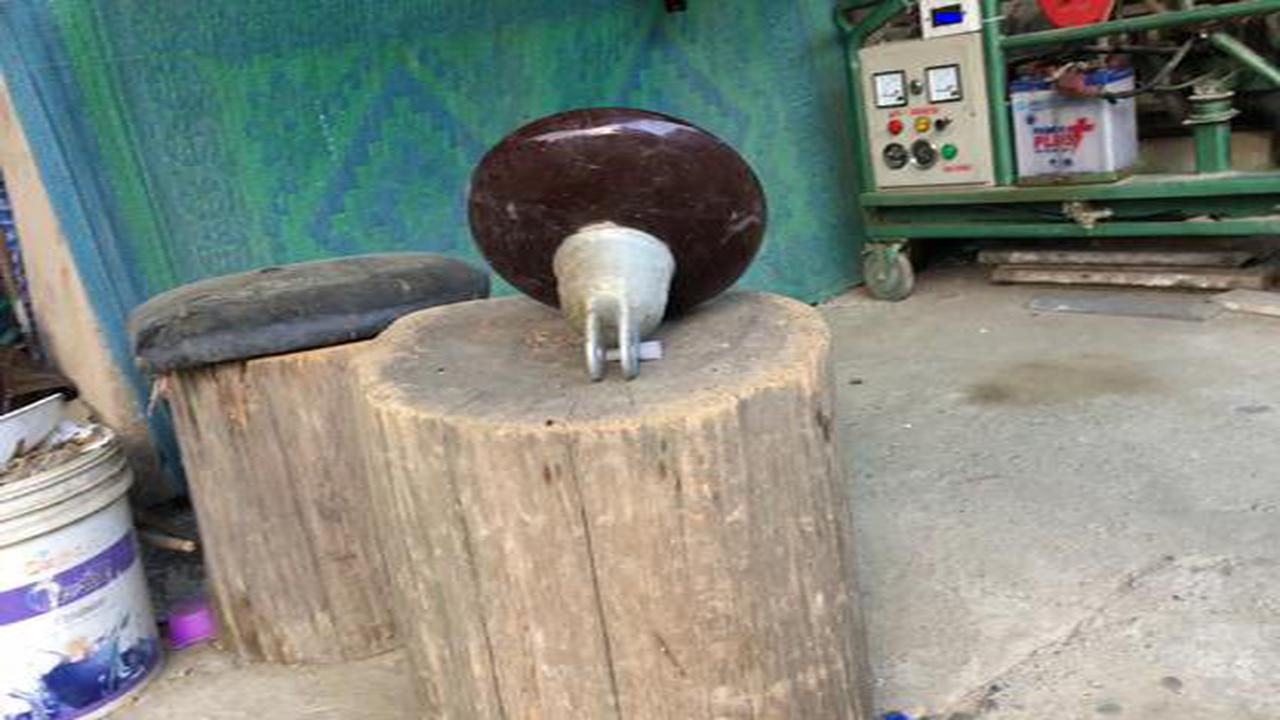insulator_disc: (465, 104, 781, 393)
